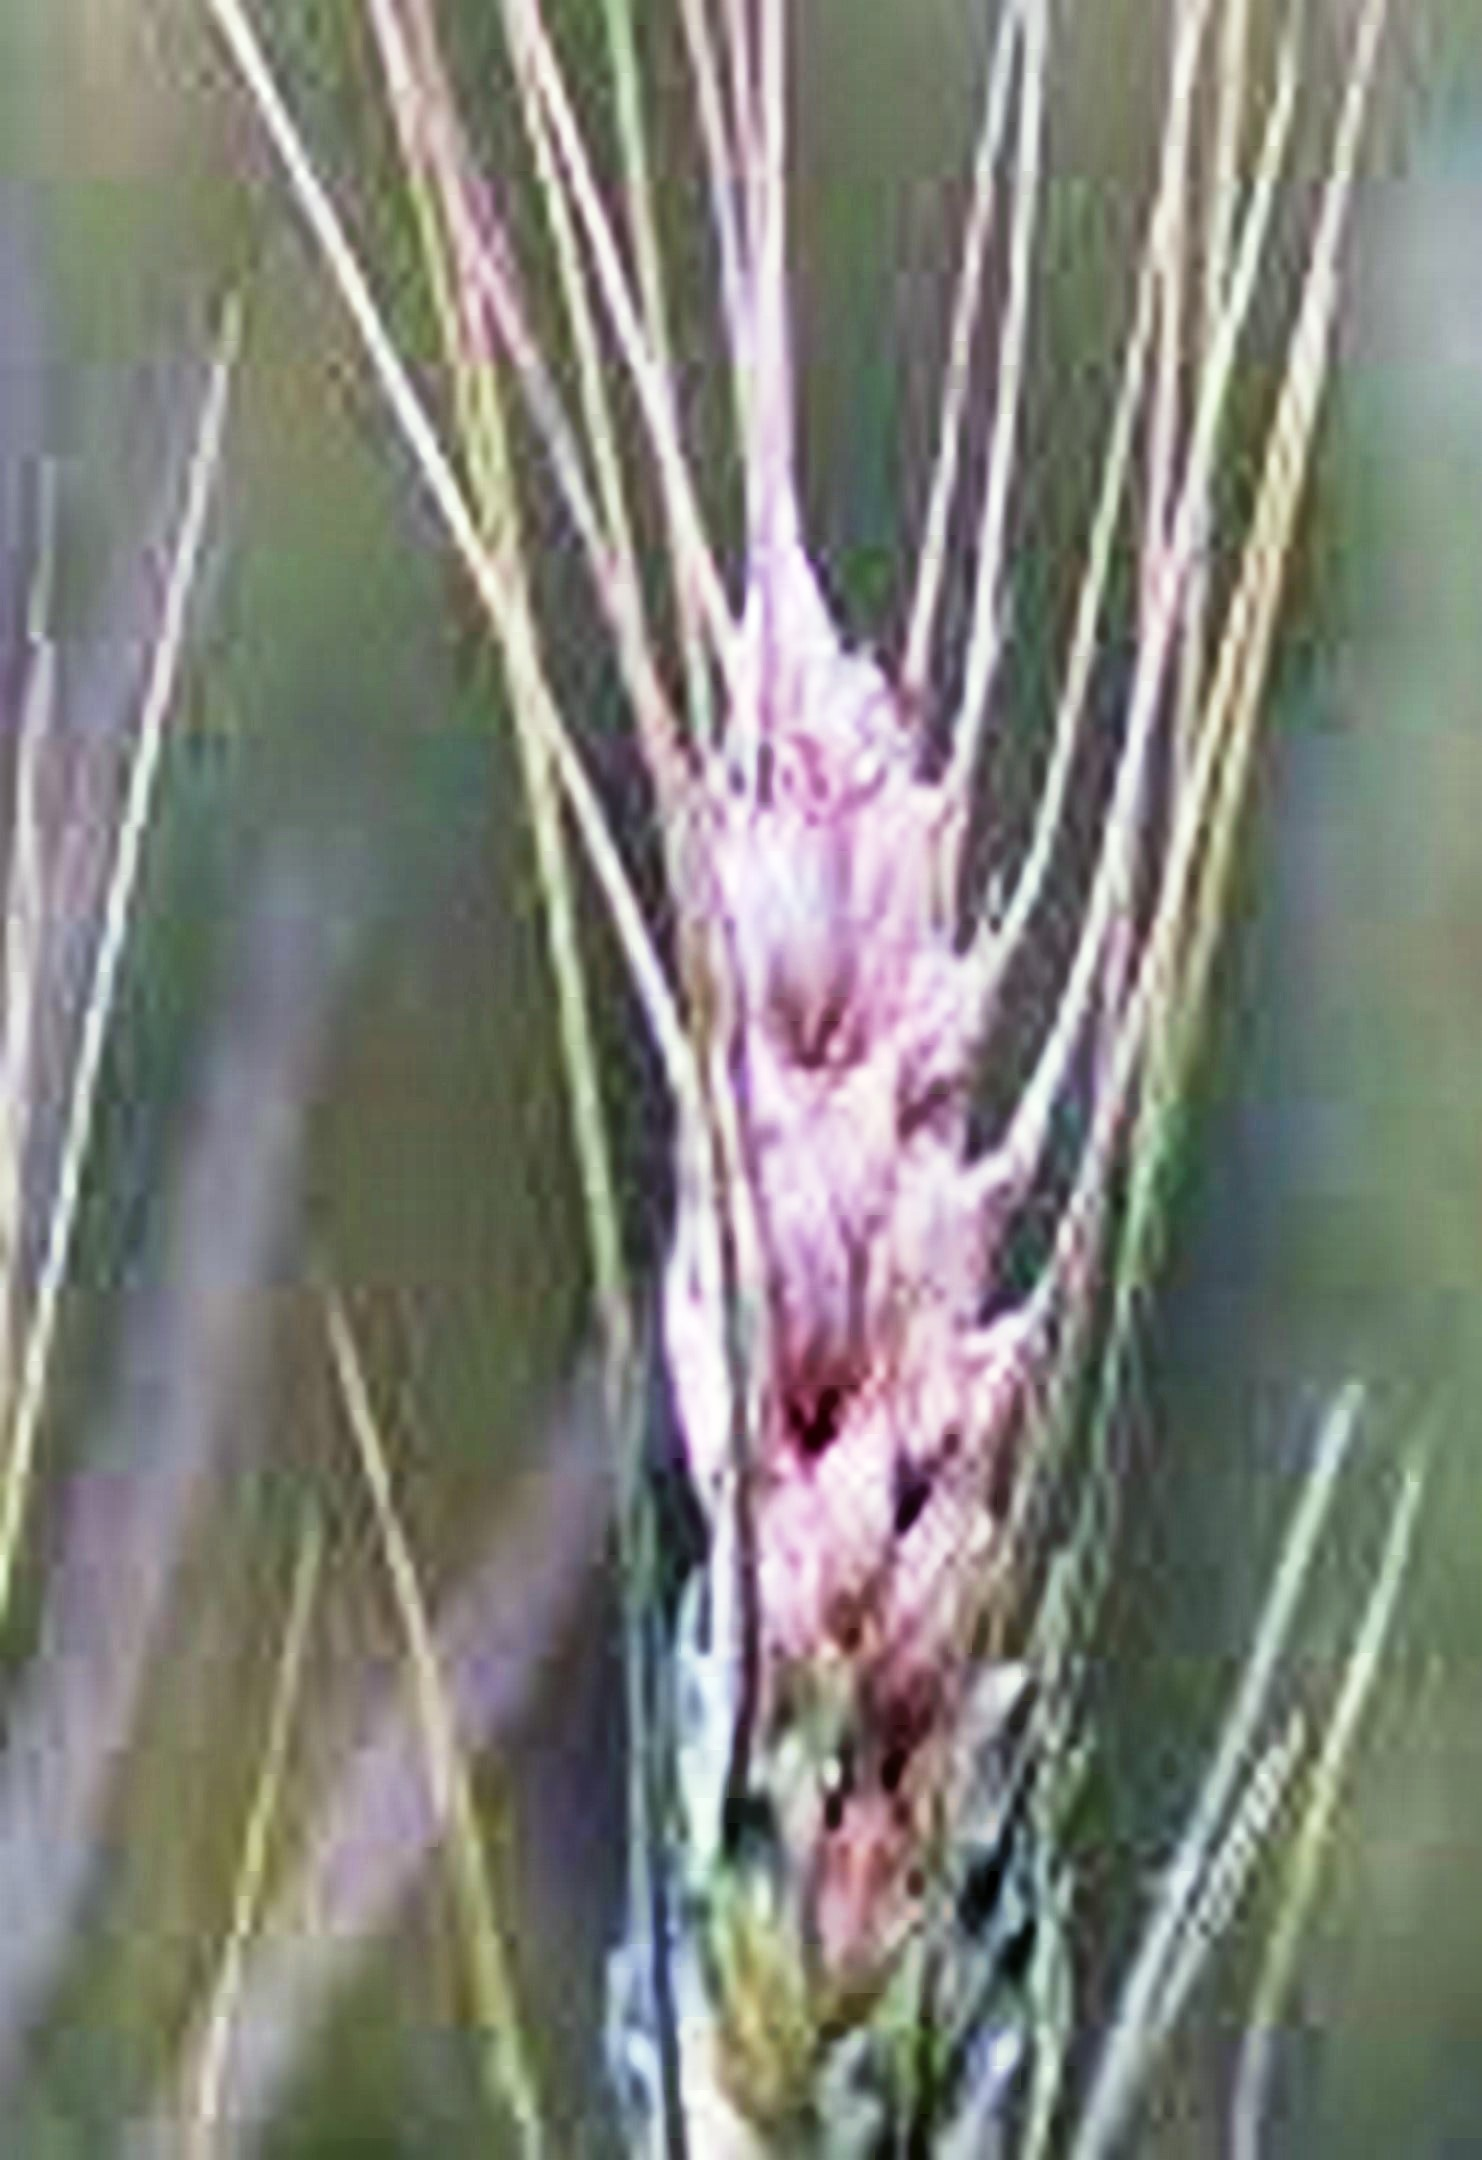Wheat scab: (573, 551, 1055, 2112)
